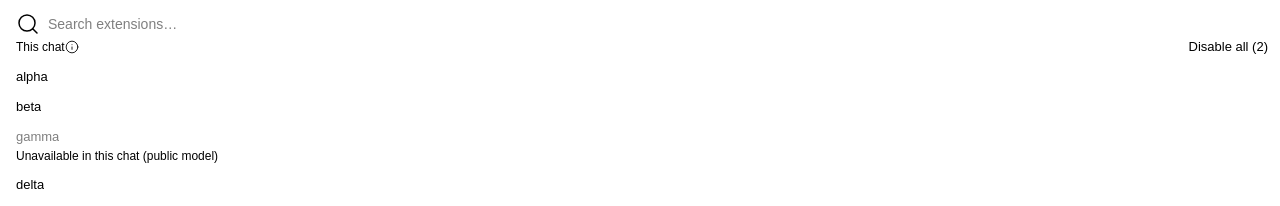
the picker shell › says so when a search matches nothing
This screenshot has width=1280, height=206.
Type "zzz" into the dropdown at (656, 24), box x1=48 y1=14 x2=1264 y2=34
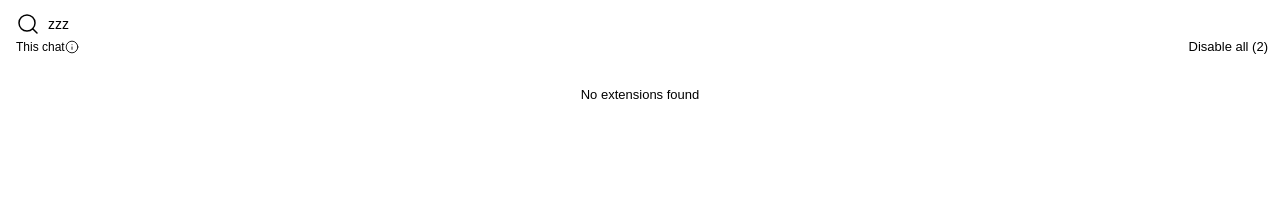
expect no options are shown: met
expect the text "No extensions found" is shown: met, box x1=581 y1=87 x2=699 y2=102
